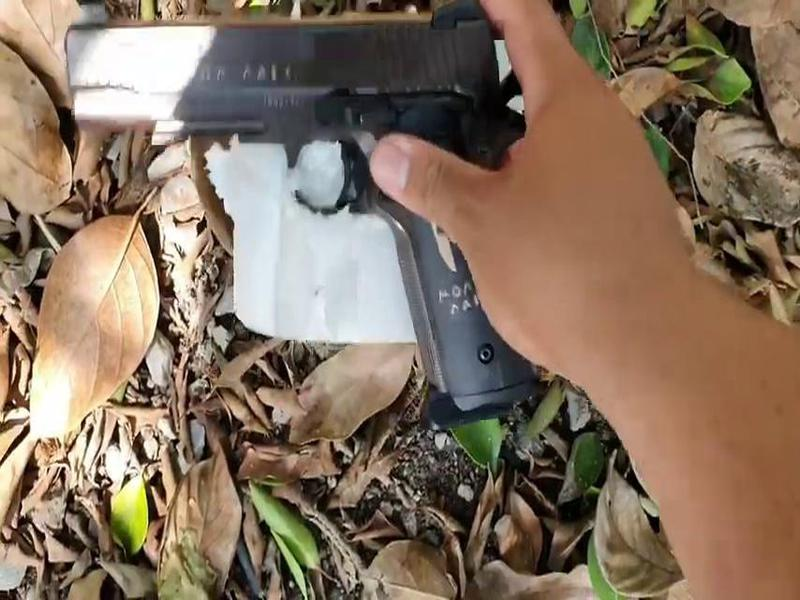Pistola: (56, 1, 538, 404)
